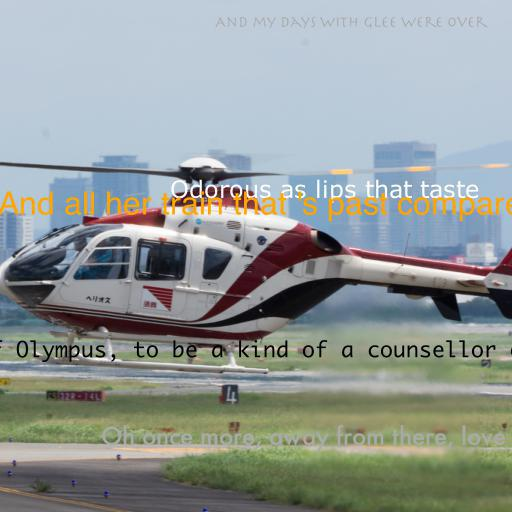Futura: (100, 424, 506, 452)
Herculanum: (214, 16, 488, 29)
Monaco: (0, 340, 512, 363)
SignPainter: (0, 191, 512, 222)
Verdana: (169, 179, 479, 203)
